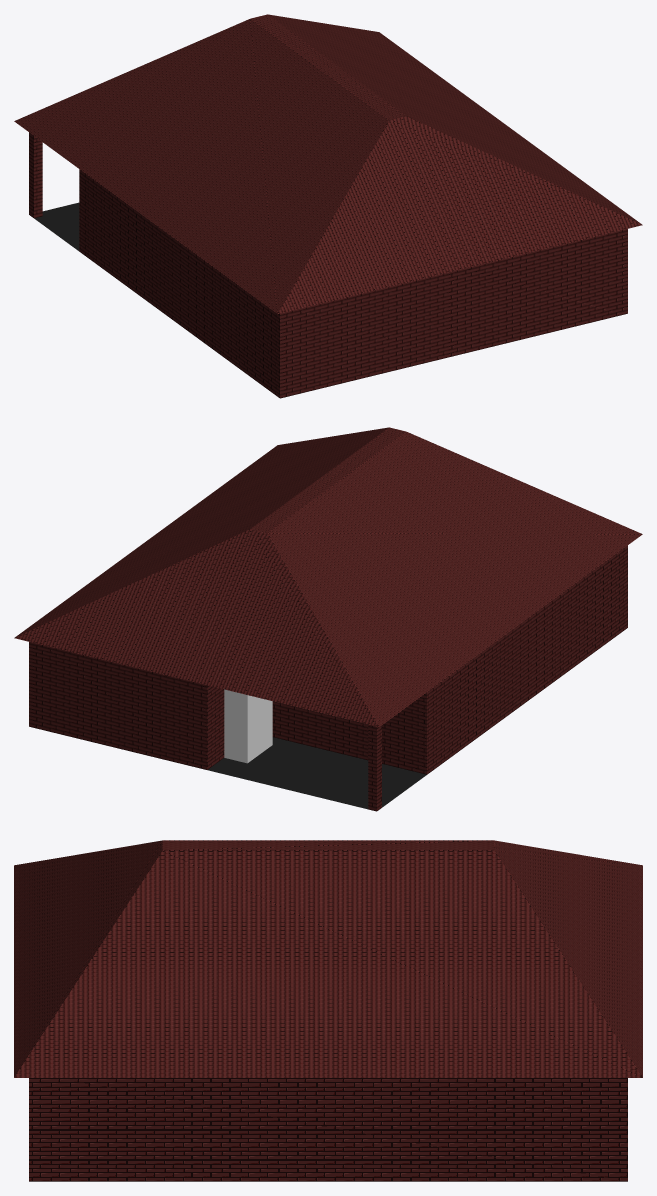
File: Home1.fbx
3 views of the same model, one above another, from view 1: azimuth 30°, elevation 25°; view 2: azimuth 150°, elevation 25°; view 3: azimuth 270°, elevation 25° (orthographic). The views are drawn at different scales.
Visible parts, largest first — view 1: Roof, OuterWall1, OuterWall8, OuterWall9, Base, Pylon; view 2: Roof, OuterWall1, OuterWall6, Base, OuterWall2, Cube.002, OuterWall3, Pylon; view 3: Roof, OuterWall7.
Part boxes in pixels (x1,y1,x2,y2): Roof: (14, 14, 642, 313); OuterWall1: (79, 169, 284, 398); OuterWall8: (454, 230, 623, 355); OuterWall9: (284, 272, 449, 397); Base: (34, 202, 79, 251); Pylon: (29, 132, 42, 218); Roof: (14, 427, 642, 726); OuterWall1: (422, 545, 627, 774); OuterWall6: (33, 643, 202, 768); Base: (207, 737, 426, 809); OuterWall2: (272, 696, 422, 773); Cube.002: (224, 689, 272, 763); OuterWall3: (203, 684, 224, 769); Pylon: (368, 724, 381, 811); Roof: (14, 840, 642, 1077); OuterWall7: (29, 1078, 627, 1181).
Bounding box in the file's own units: 420 × 216 × 525.
